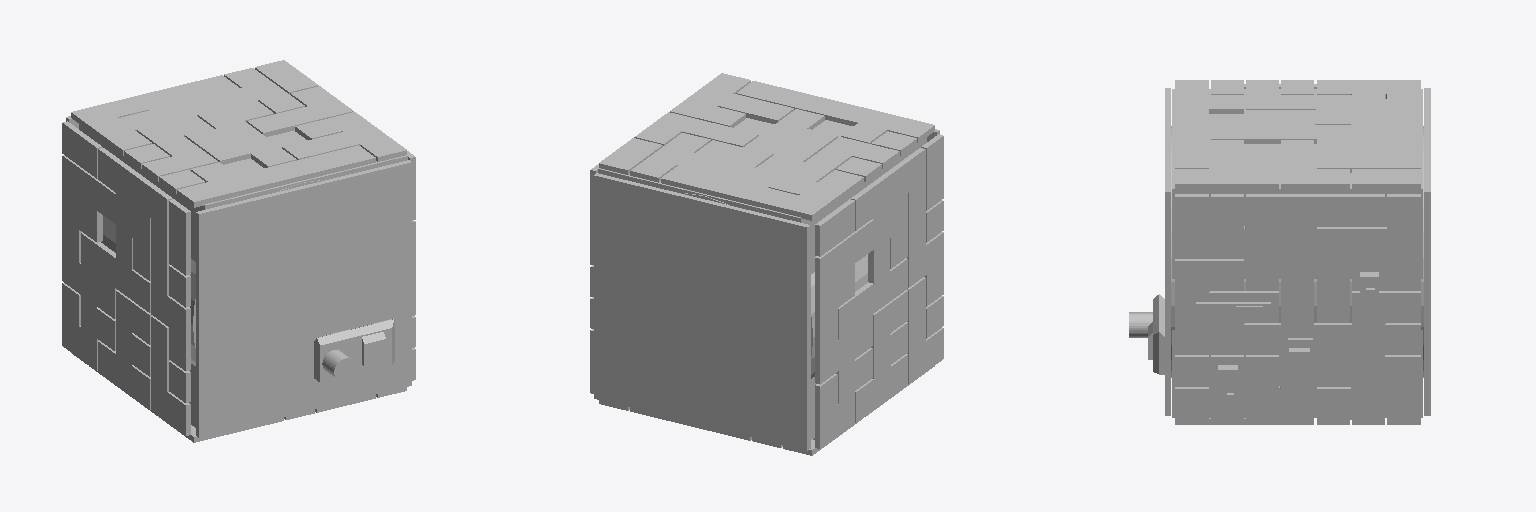
The model's file is city_block1.obj.
3 renders of one model, left to right at view 1: azimuth 30°, elevation 25°; view 2: azimuth 150°, elevation 25°; view 3: azimuth 270°, elevation 25°, orthographic.
Parts seen in each view (by area): view 1: Cube, Cube.001, Cylinder; view 2: Cube, Cube.001; view 3: Cube, Cube.001, Cylinder.
Boxes of the visible parts, x1=… form: Cube: x1=62, y1=60, x2=415, y2=442; Cube.001: x1=79, y1=124, x2=407, y2=427; Cylinder: x1=322, y1=350, x2=355, y2=381; Cube: x1=590, y1=73, x2=943, y2=455; Cube.001: x1=598, y1=118, x2=926, y2=439; Cube: x1=1148, y1=80, x2=1430, y2=424; Cube.001: x1=1172, y1=89, x2=1422, y2=417; Cylinder: x1=1129, y1=312, x2=1152, y2=337.
Bounding box in the file's own units: 2.25 × 2.1 × 2.38.